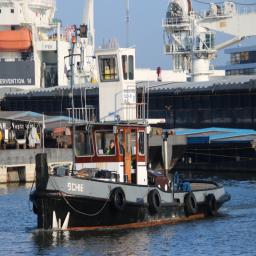tugboat: (29, 45, 233, 239)
